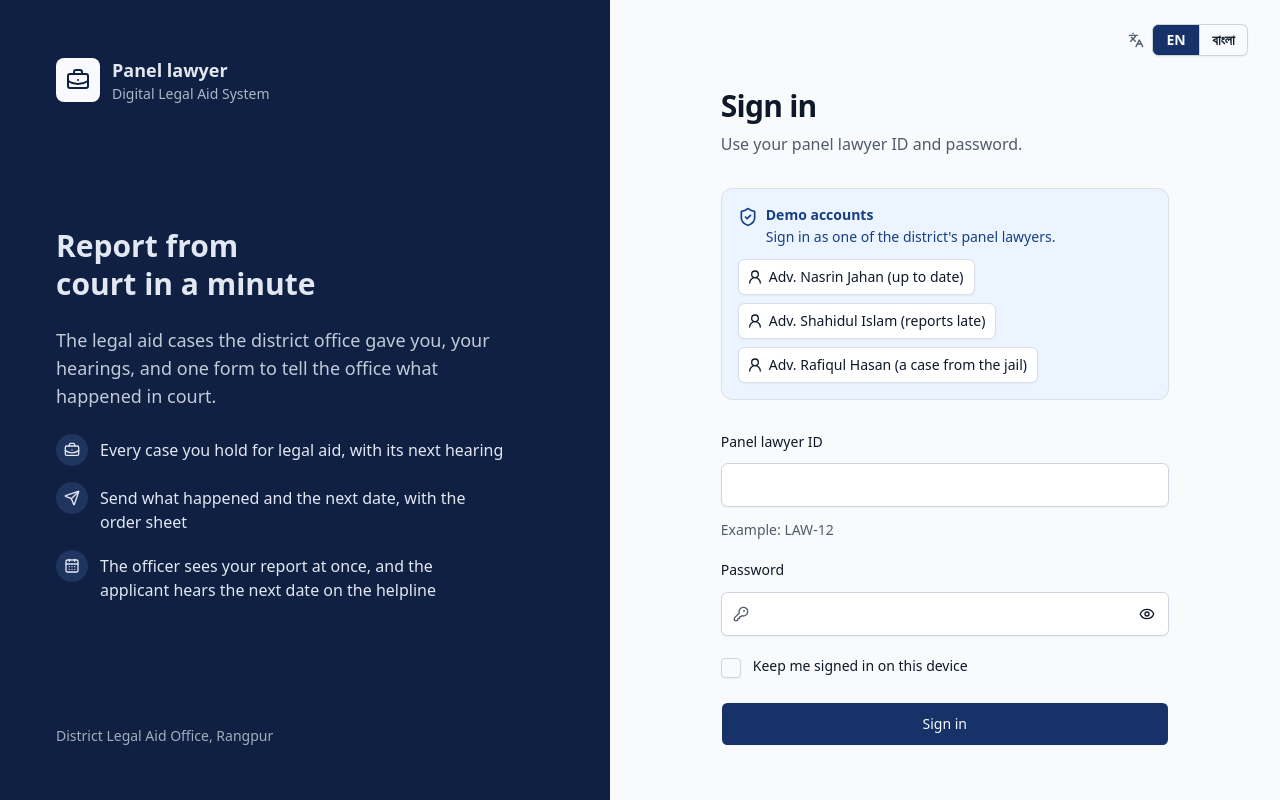
Scenario: with a backend (VITE_API_URL) › checks the lawyer ID with the server when signing in
The image size is (1280, 800).
In the field labelled "Panel lawyer ID": coordinates (945, 485) [721, 463, 1169, 507], type "law-07"
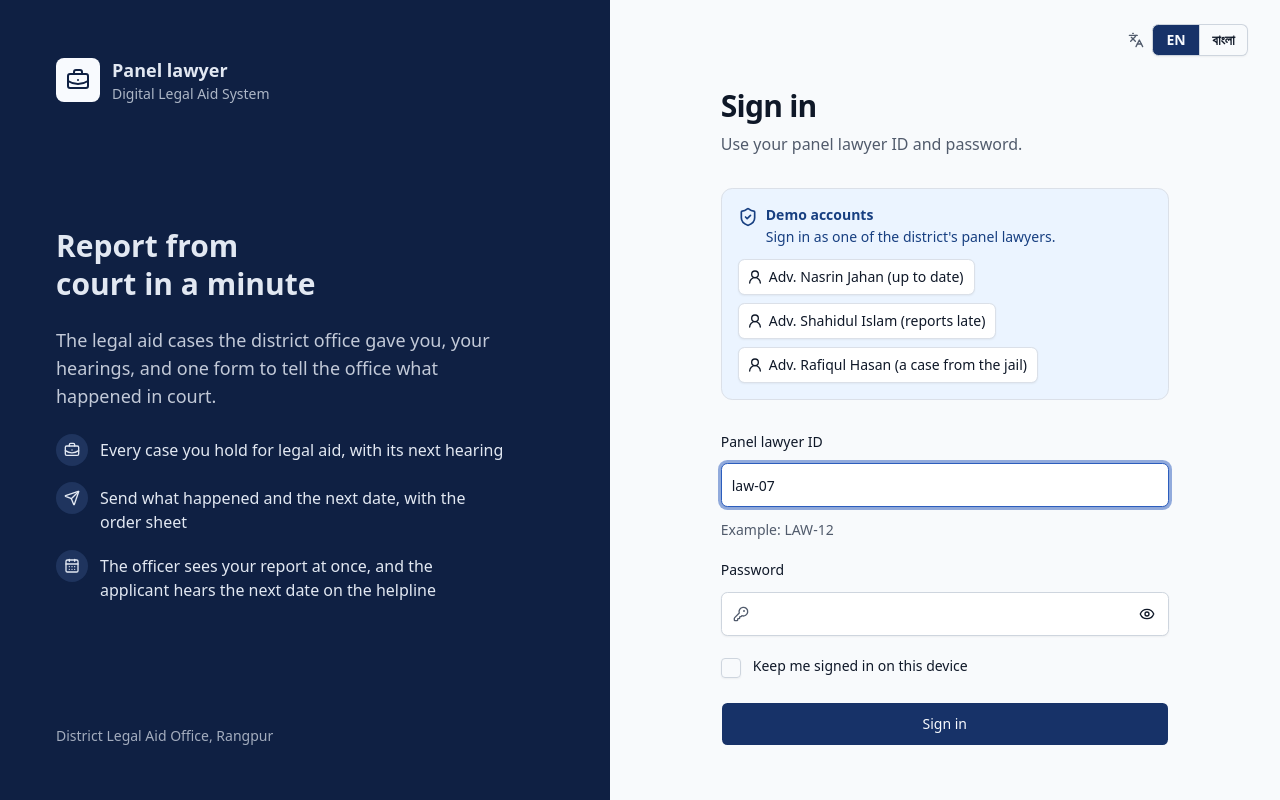
In the password field labelled "Password": coordinates (945, 614) [721, 592, 1169, 636], type "demo1234"
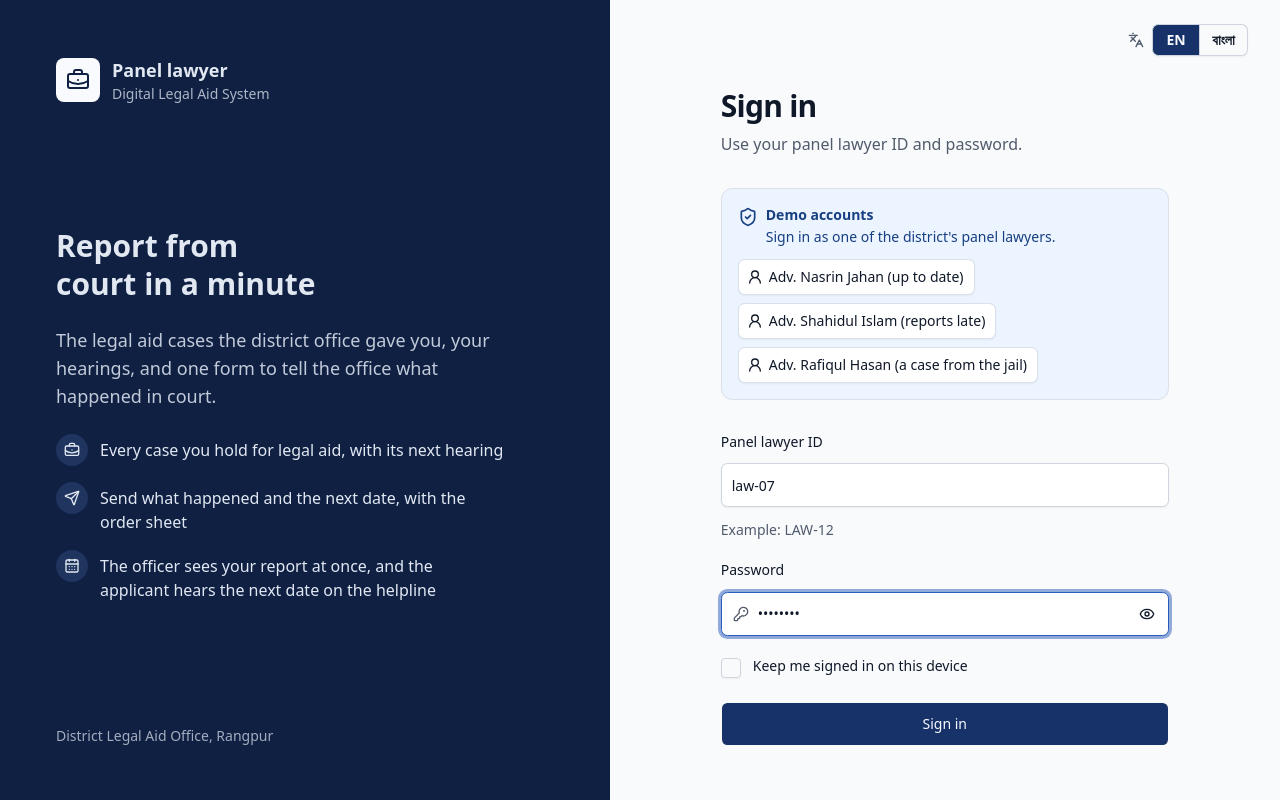
Click the button "Sign in": coordinates (945, 724) [721, 702, 1169, 746]
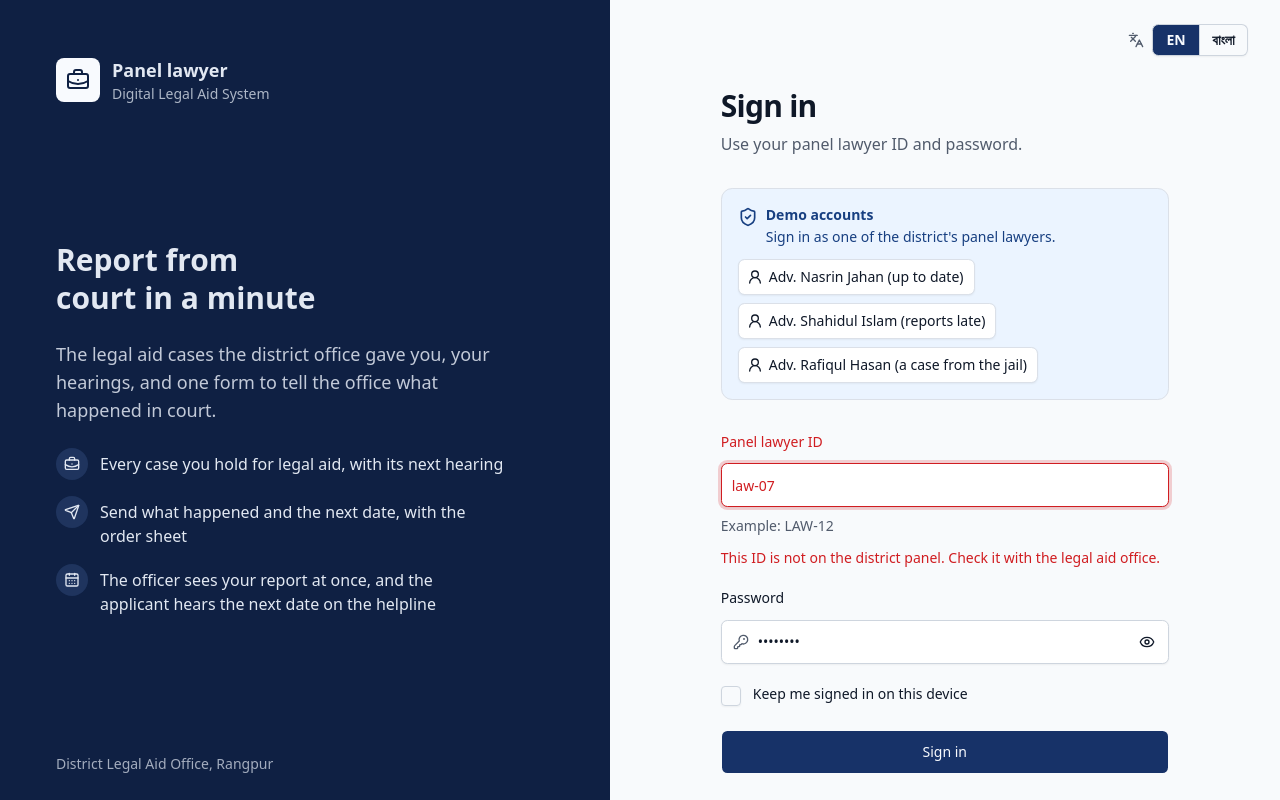
Check: the text "This ID is not on the district panel. Check it with the legal aid office." is shown, box [721, 548, 1169, 568]
Replace the text in the field labelled "Panel lawyer ID" with "law-21": coordinates (945, 485) [721, 463, 1169, 507]
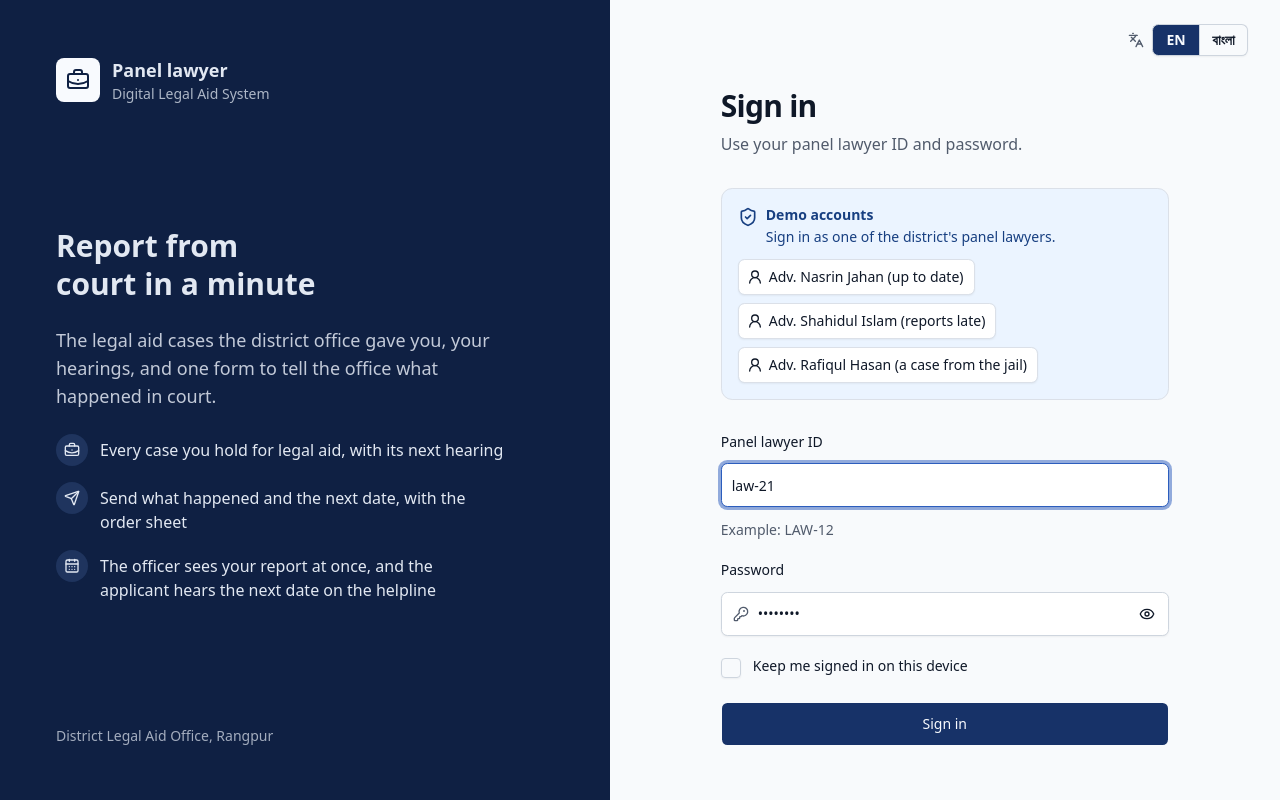
Click the button "Sign in": coordinates (945, 724) [721, 702, 1169, 746]
(page scrolled)
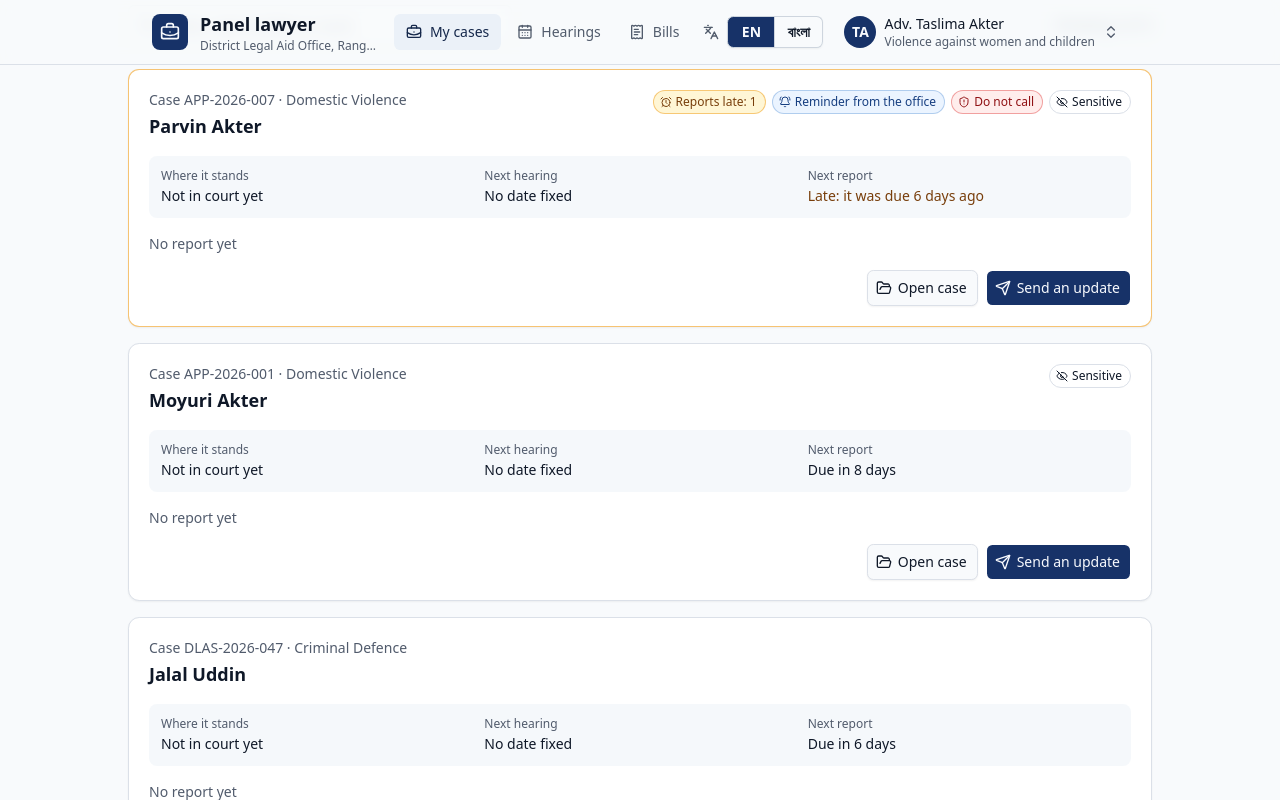
Check: the link "Moyuri Akter" is shown, box [149, 388, 267, 412]
